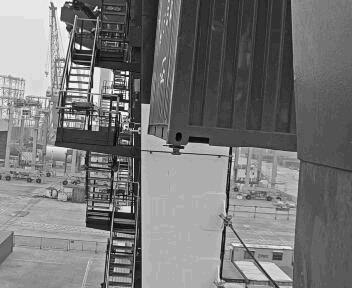twist_lock_1: (150, 139, 172, 157)
